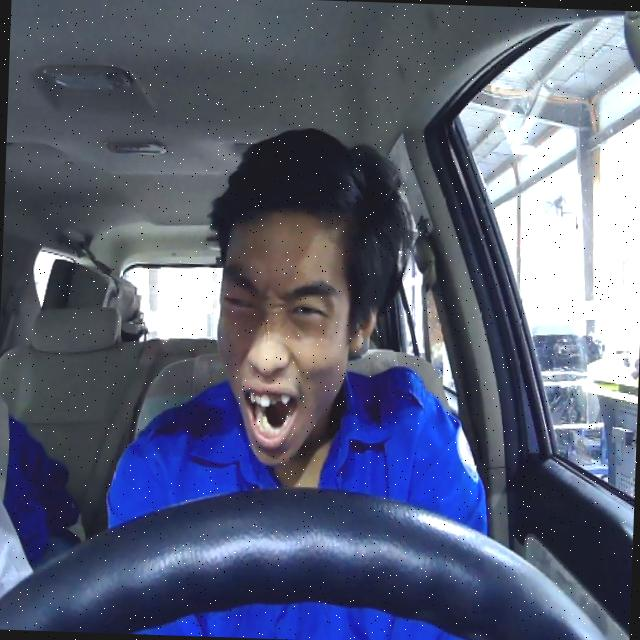yarning: (210, 204, 353, 465)
